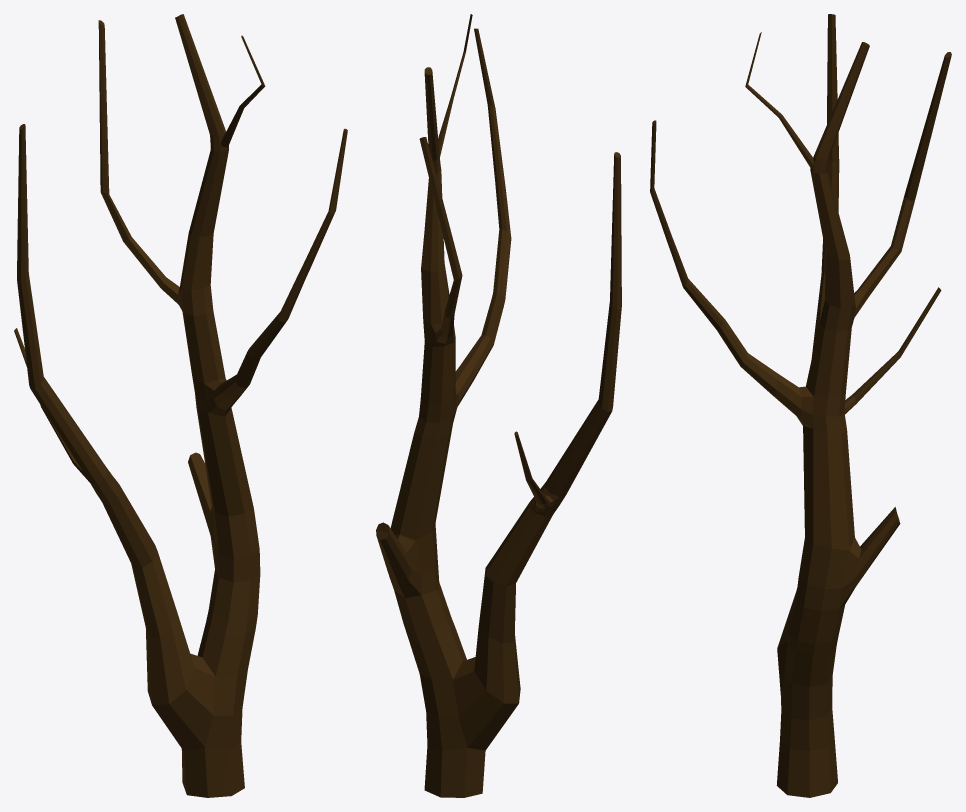
Rendered from Cementery_Tree2.fbx.
3 renders of one model, left to right at view 1: azimuth 30°, elevation 25°; view 2: azimuth 150°, elevation 25°; view 3: azimuth 270°, elevation 25°, orthographic.
Visible parts, largest first — view 1: DeadTree2; view 2: DeadTree2; view 3: DeadTree2.
Part boxes in pixels (<box>): DeadTree2: <box>14,14,347,797</box>; DeadTree2: <box>376,14,621,797</box>; DeadTree2: <box>650,14,951,797</box>.
Bounding box in the file's own units: 90.96 × 278 × 101.
